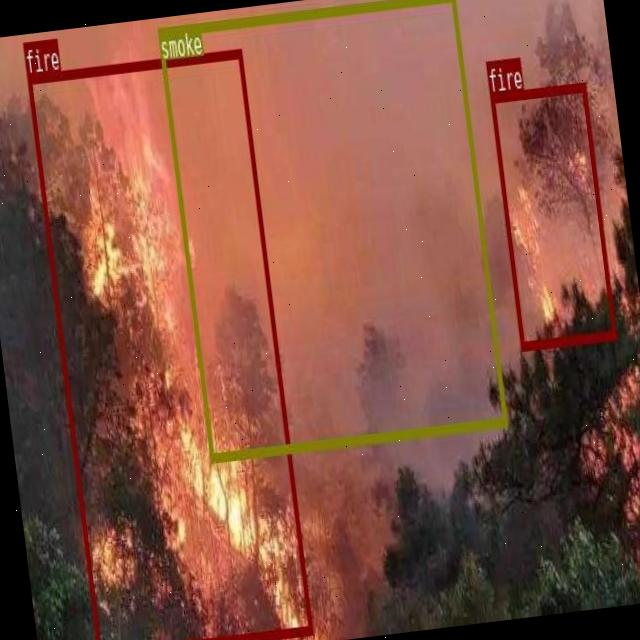fire: (26, 48, 311, 640), (490, 81, 616, 349)
smoke: (157, 0, 507, 461)
